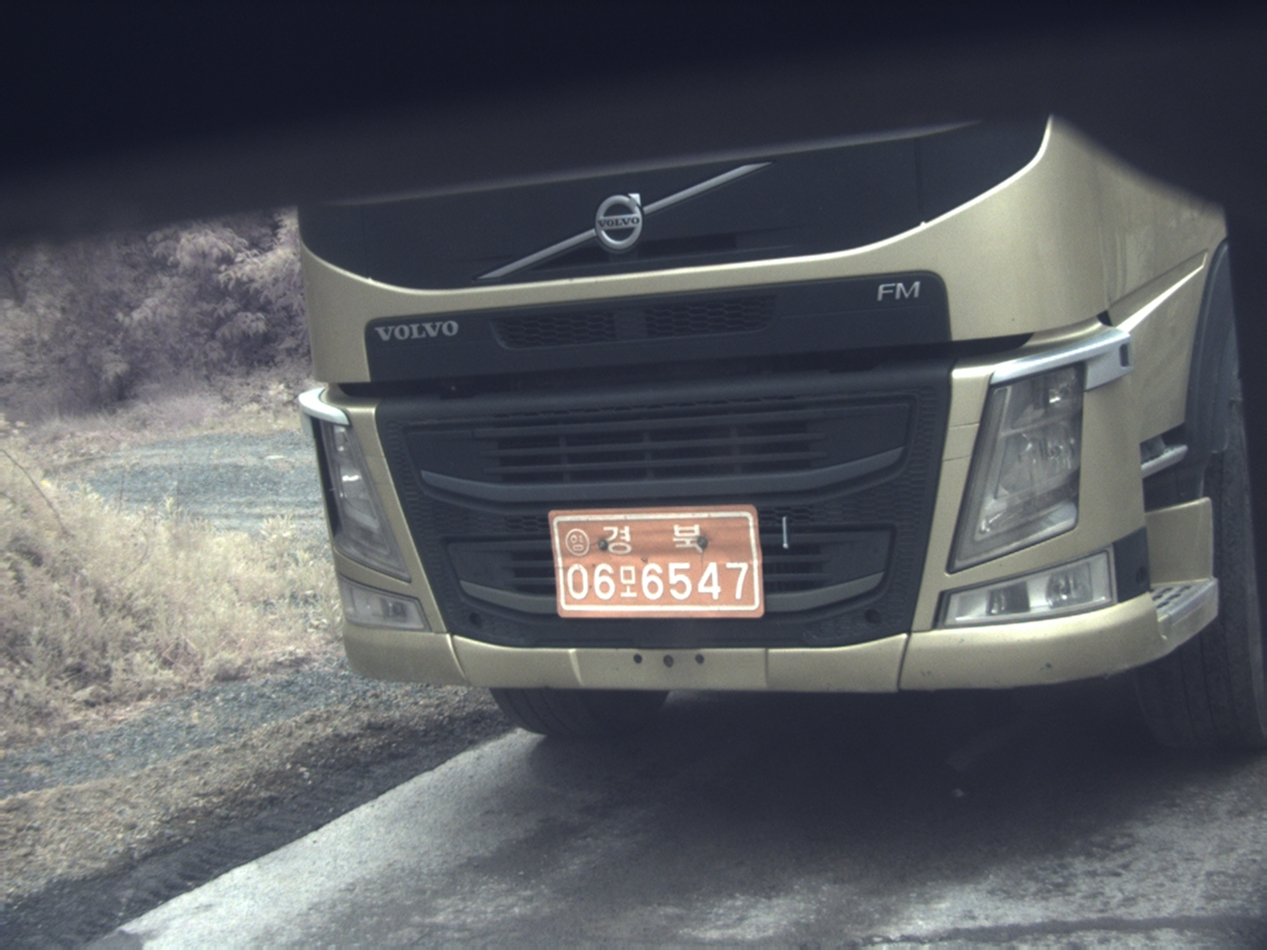license_plate: (549, 507, 762, 616)
truck: (302, 119, 1265, 746)
